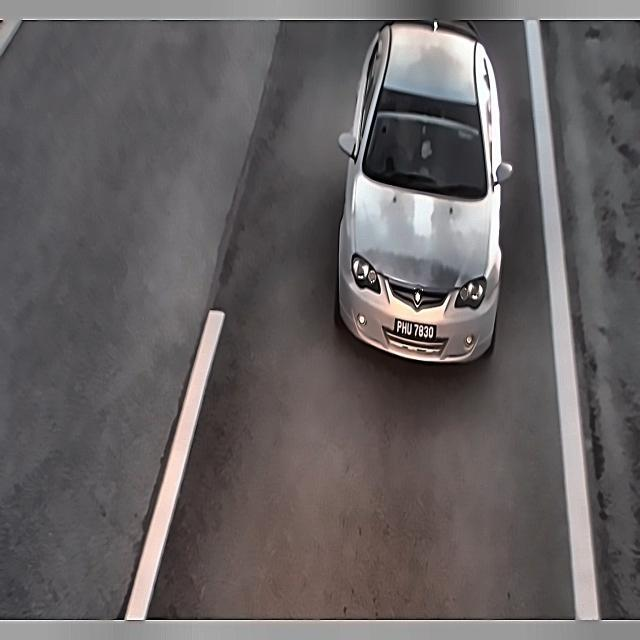car: (391, 316, 442, 348)
